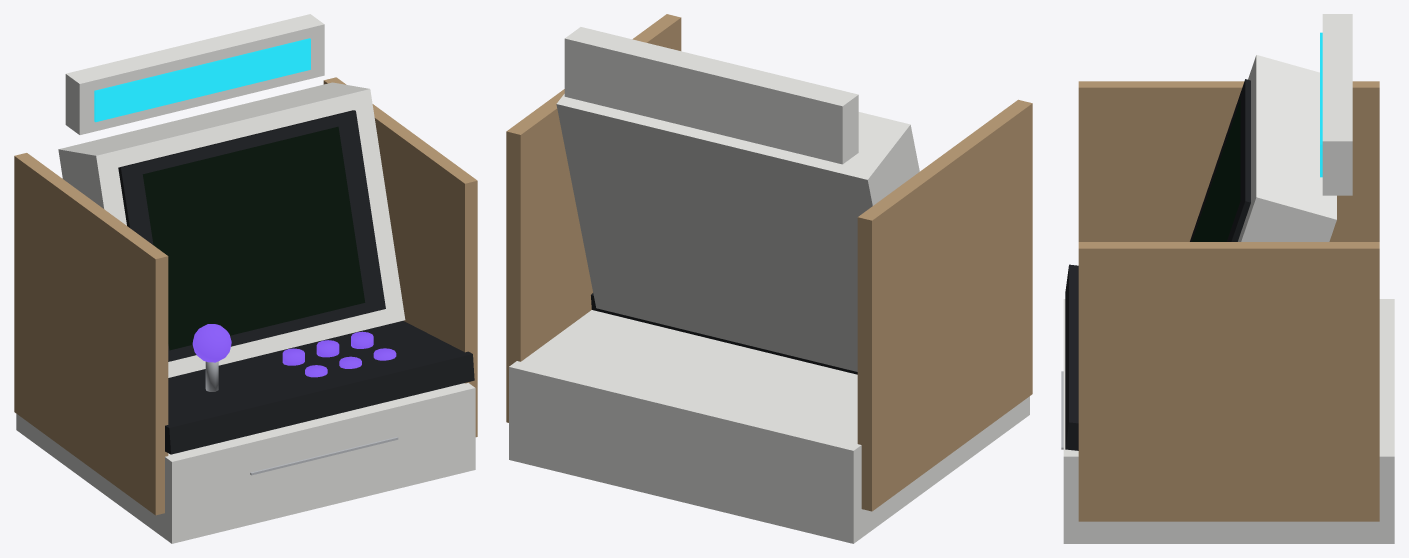
Rendered from Tech_Arcade_Bartop.gltf.
3 renders of one model, left to right at view 1: azimuth 30°, elevation 25°; view 2: azimuth 150°, elevation 25°; view 3: azimuth 270°, elevation 25°, orthographic. The views are drawn at different scales.
Parts seen in each view (by area): view 1: Tech_Arcade_Bartop; view 2: Tech_Arcade_Bartop; view 3: Tech_Arcade_Bartop.
Part boxes in pixels (x1,y1,x2,y2): Tech_Arcade_Bartop: [14, 14, 477, 543]; Tech_Arcade_Bartop: [506, 14, 1032, 543]; Tech_Arcade_Bartop: [1061, 14, 1394, 543].
Bounding box in the file's own units: 0.658 × 0.71 × 0.554.
